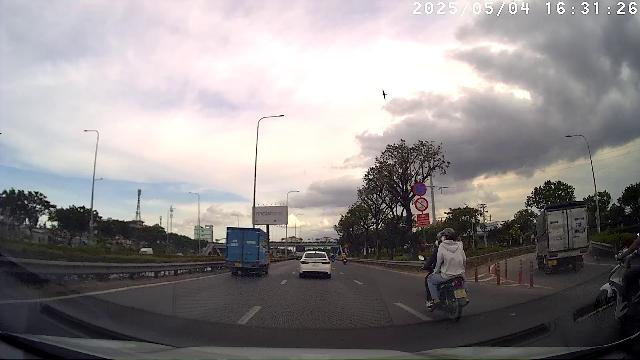130-cam-dung-va-do-xe: (413, 182, 427, 196)
